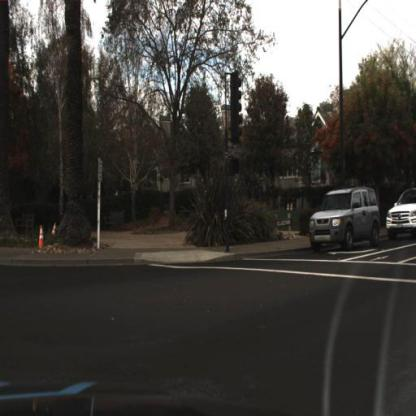car: (311, 188, 381, 252), (387, 188, 416, 243)
